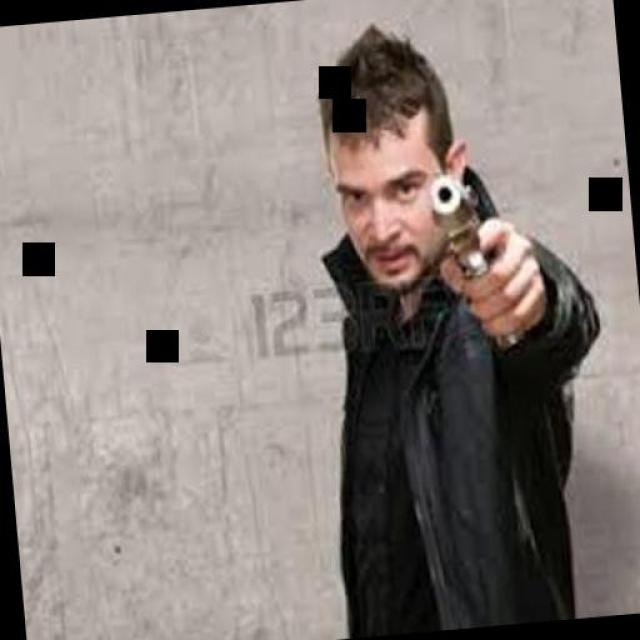gun: (428, 165, 524, 355)
